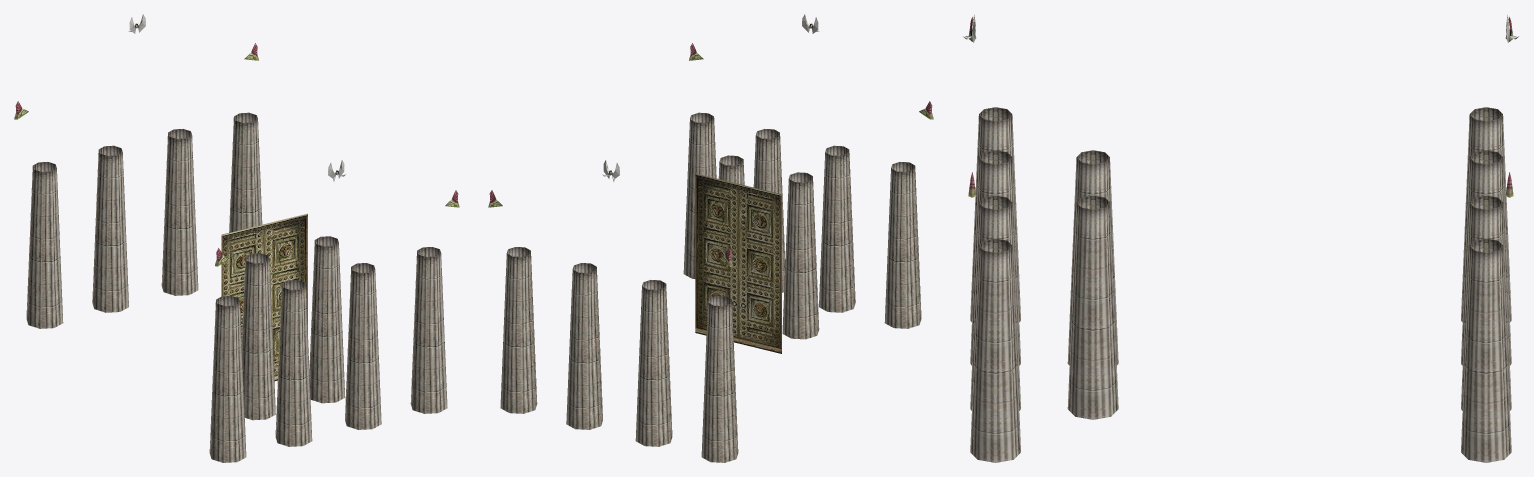
File: hele_temple_c_props.dae
The picture shows the model from 3 angles, left to right: view 1: azimuth 30°, elevation 25°; view 2: azimuth 150°, elevation 25°; view 3: azimuth 270°, elevation 25°; orthographic projection. The views are drawn at different scales.
Visible parts, largest first — view 1: props; view 2: props; view 3: props.
Part boxes in pixels (x1,y1,x2,y2): props: [14, 14, 459, 462]; props: [488, 14, 933, 462]; props: [963, 15, 1518, 462].
Size of the model in its own units: 15.04 by 22.2 by 16.2.
